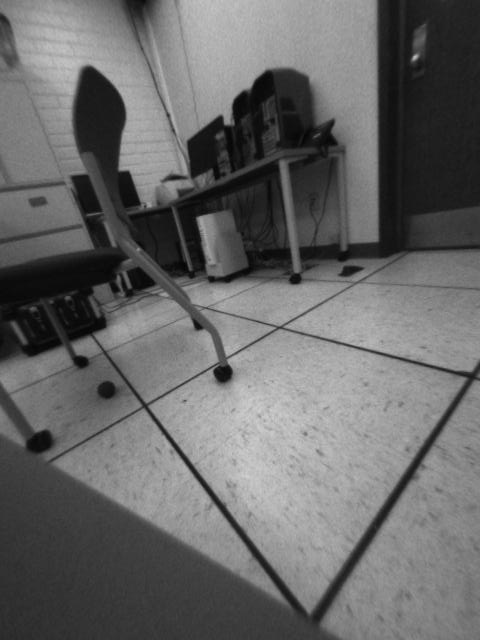dogtoy: (92, 374, 124, 403)
